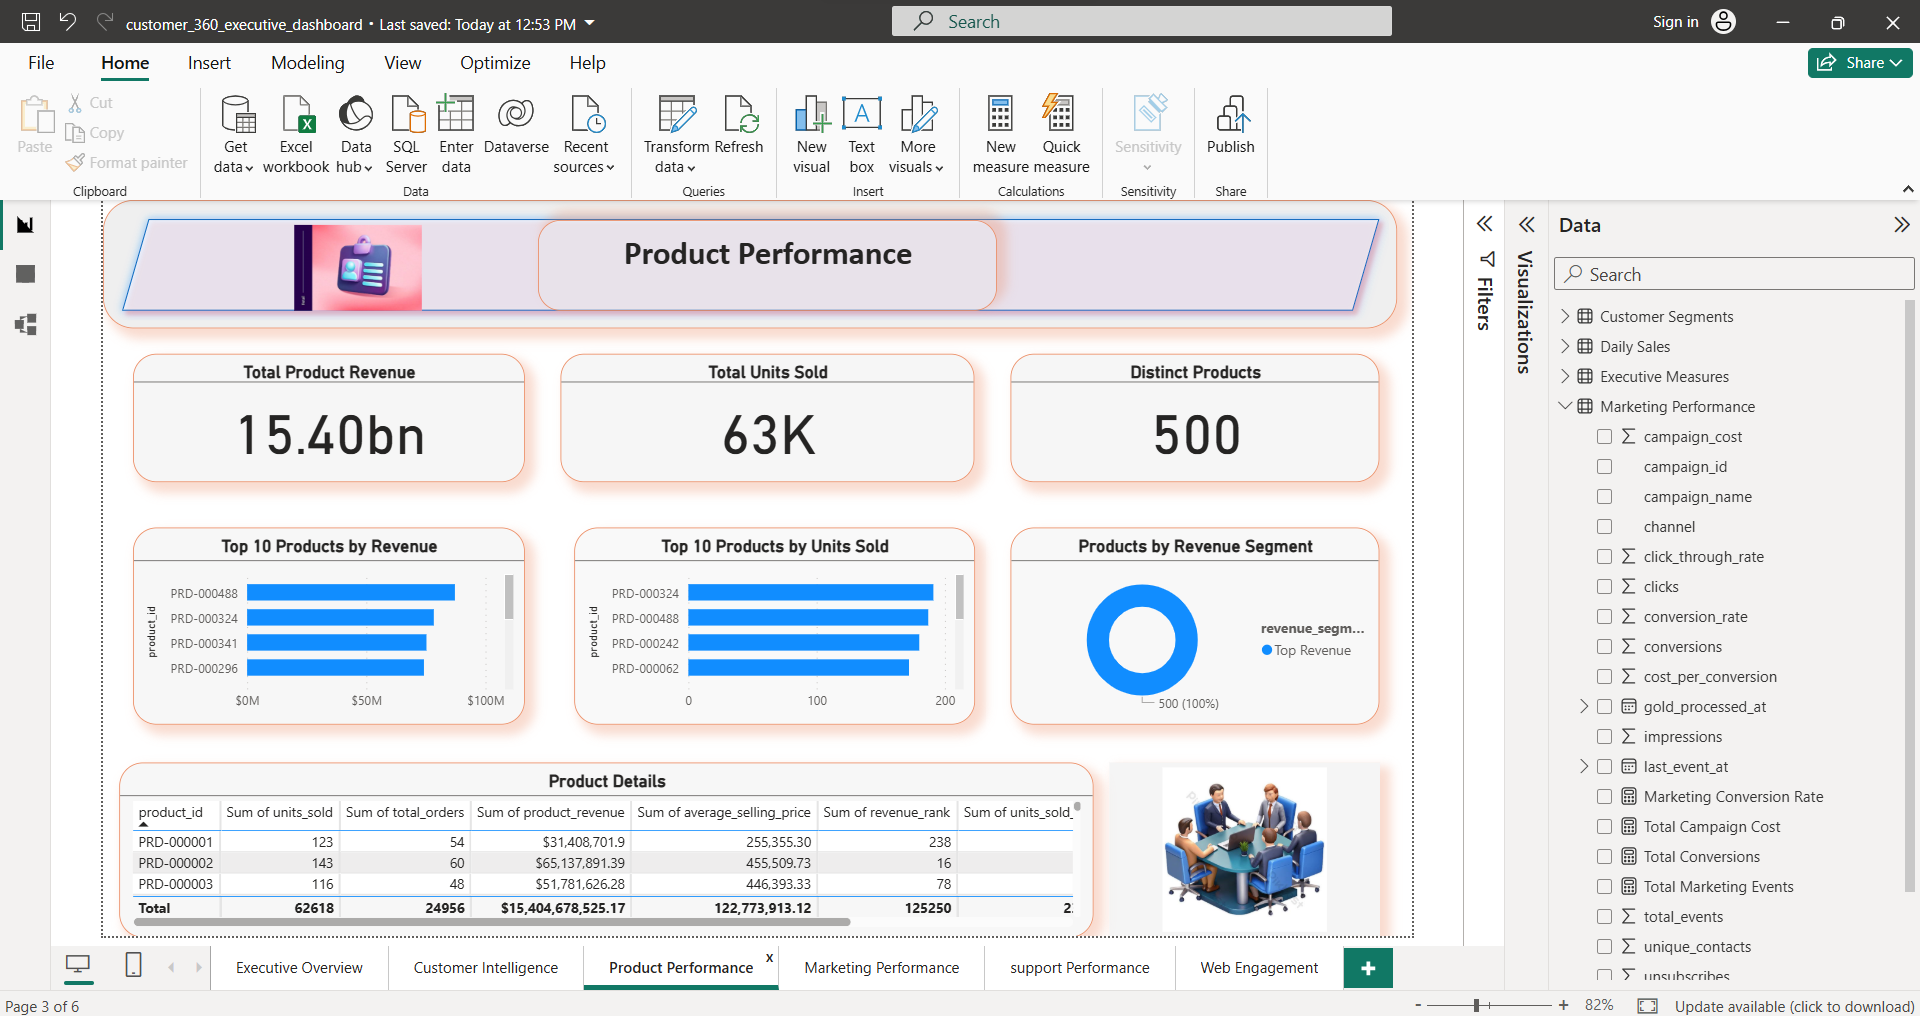

Layout of this report page (visuals, bound fields, positions):
{"tool":"powerbi","page":{"name":"Product Performance","canvas":[1280,720],"ordinal":2},"visuals":[{"type":"card","title":"Total Product Revenue","fields":{"Values":["Product Performance.Total Product Revenue"]},"box":[29.2,150.5,382.9,125.7],"z":0},{"type":"card","title":"Total Units Sold","fields":{"Values":["Product Performance.Total Units Sold"]},"box":[447.2,150.5,404.8,125.7],"z":1000},{"type":"card","title":"Distinct Products","fields":{"Values":["Product Performance.Products Sold"]},"box":[887.1,150.5,361,125.7],"z":2000},{"type":"clusteredBarChart","title":"Top 10 Products by Revenue","fields":{"Category":["Product Performance.product_id"],"Y":["Sum(Product Performance.product_revenue)"]},"box":[29.2,320.1,382.9,192.9],"z":3000},{"type":"clusteredBarChart","title":"Top 10 Products by Units Sold","fields":{"Category":["Product Performance.product_id"],"Y":["Sum(Product Performance.units_sold)"]},"box":[460.4,320.1,391.7,192.9],"z":4000},{"type":"donutChart","title":"Products by Revenue Segment","fields":{"Category":["Product Performance.revenue_segment"],"Y":["Product Performance.Products Sold"]},"box":[887.1,320.1,361,192.9],"z":5000},{"type":"tableEx","title":"Product Details","fields":{"Values":["Product Performance.product_id","Sum(Product Performance.units_sold)","Sum(Product Performance.total_orders)","Sum(Product Performance.product_revenue)","Sum(Product Performance.average_selling_price)","Sum(Product Performance.revenue_rank)","Sum(Product Performance.units_sold_rank)","Product Performance.product_sales_status","Product Performance.revenue_segment"]},"box":[16.1,549.5,952.9,171],"z":6000},{"type":"shape","box":[0,0,1265.7,125.7],"z":7000},{"type":"textbox","box":[425.3,19,448.7,89.2],"z":8000},{"type":"image","box":[983.6,549.5,264.5,171],"z":8001},{"type":"image","box":[99.4,19,301.1,93.5],"z":8002}]}

Visuals, with their boxes on the page's 1280x720 design canvas (x1, y1, x2, y2). These are canvas units, not pixel positions in the 1920x1016 screenshot, which may show the page scaled, cropped or inside an application window:
"Total Product Revenue" card: x1=29 y1=150 x2=412 y2=276
"Total Units Sold" card: x1=447 y1=150 x2=852 y2=276
"Distinct Products" card: x1=887 y1=150 x2=1248 y2=276
"Top 10 Products by Revenue" clusteredBarChart: x1=29 y1=320 x2=412 y2=513
"Top 10 Products by Units Sold" clusteredBarChart: x1=460 y1=320 x2=852 y2=513
"Products by Revenue Segment" donutChart: x1=887 y1=320 x2=1248 y2=513
"Product Details" tableEx: x1=16 y1=550 x2=969 y2=720
shape: x1=0 y1=0 x2=1266 y2=126
textbox: x1=425 y1=19 x2=874 y2=108
image: x1=984 y1=550 x2=1248 y2=720
image: x1=99 y1=19 x2=400 y2=112
